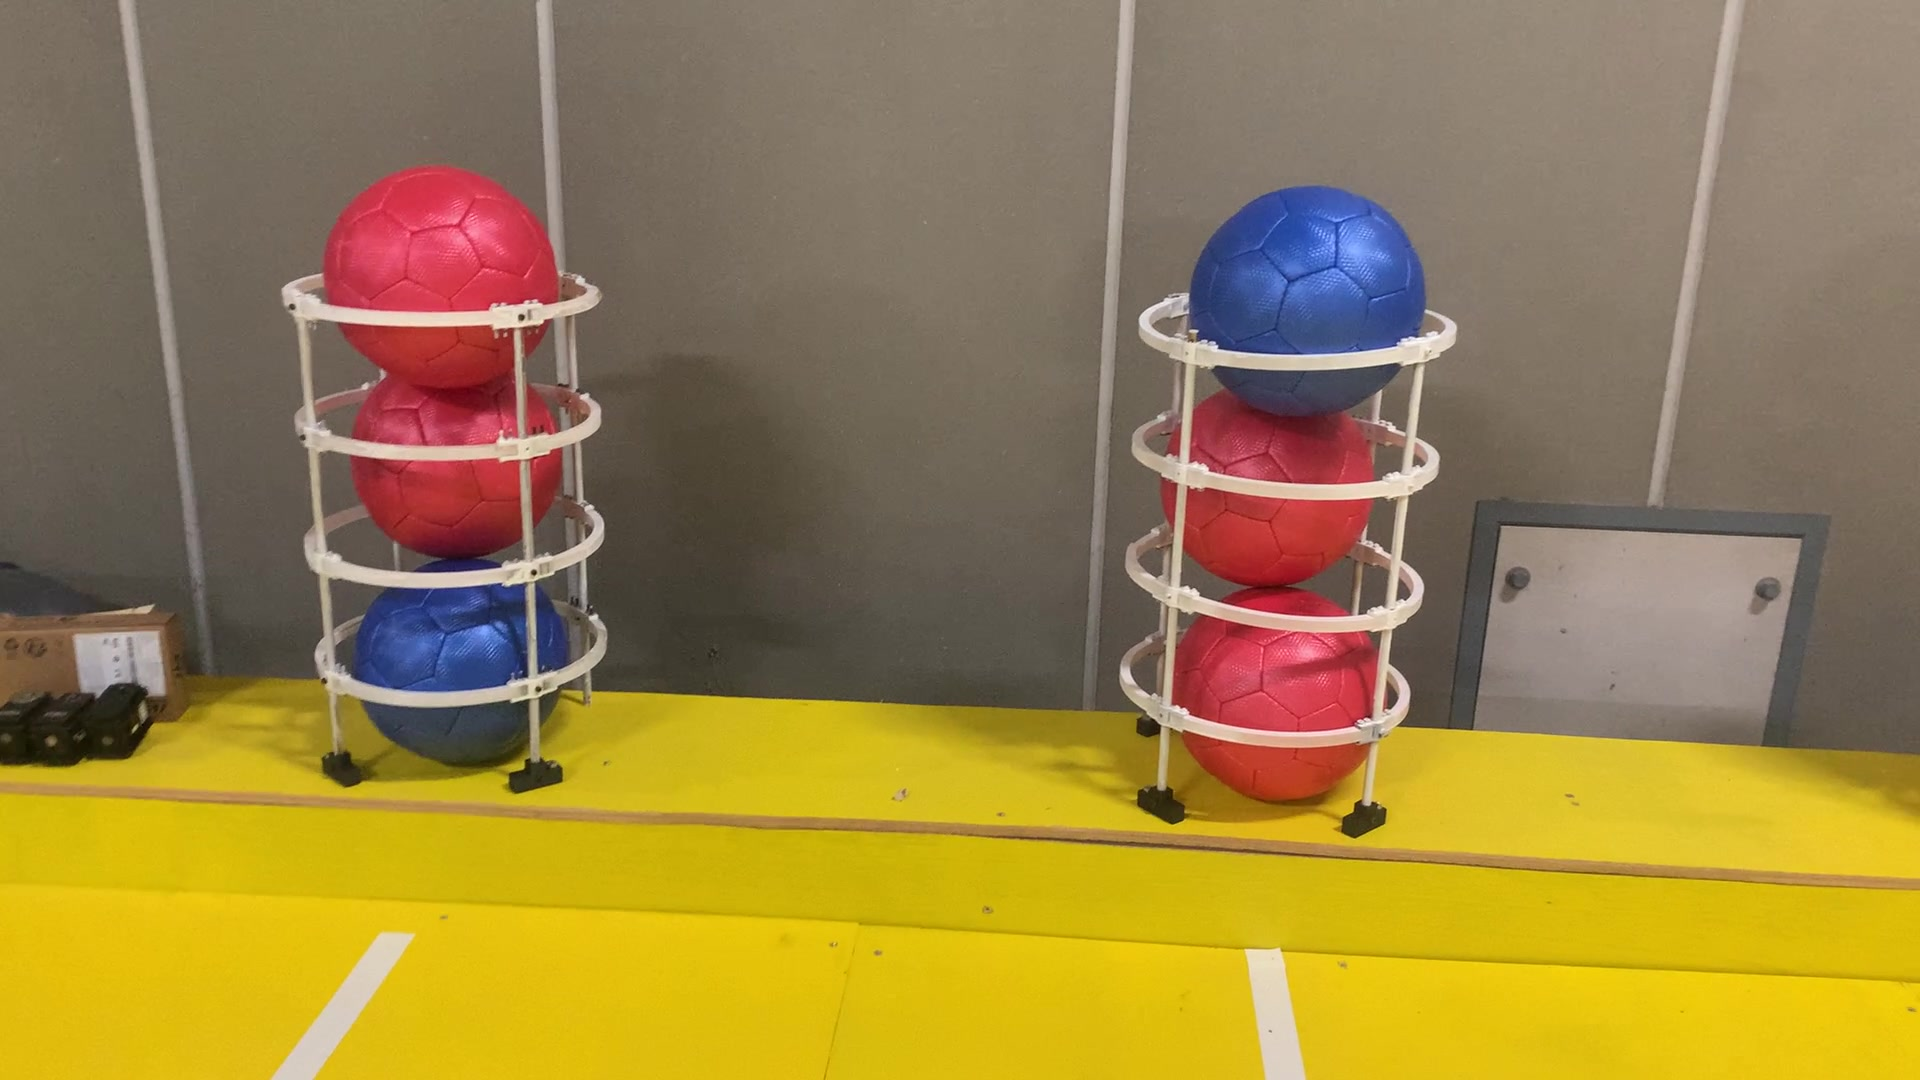blue: (1189, 179, 1428, 421), (352, 550, 575, 766)
red: (1164, 583, 1393, 816), (326, 164, 558, 392), (1167, 376, 1383, 583), (352, 352, 564, 559)
